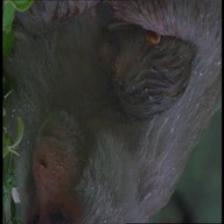monkey: (9, 99, 90, 223), (91, 4, 136, 128)
